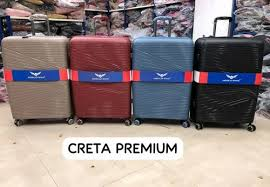suitcase: (193, 15, 263, 133), (1, 15, 73, 128), (70, 13, 134, 126), (132, 17, 194, 125)
